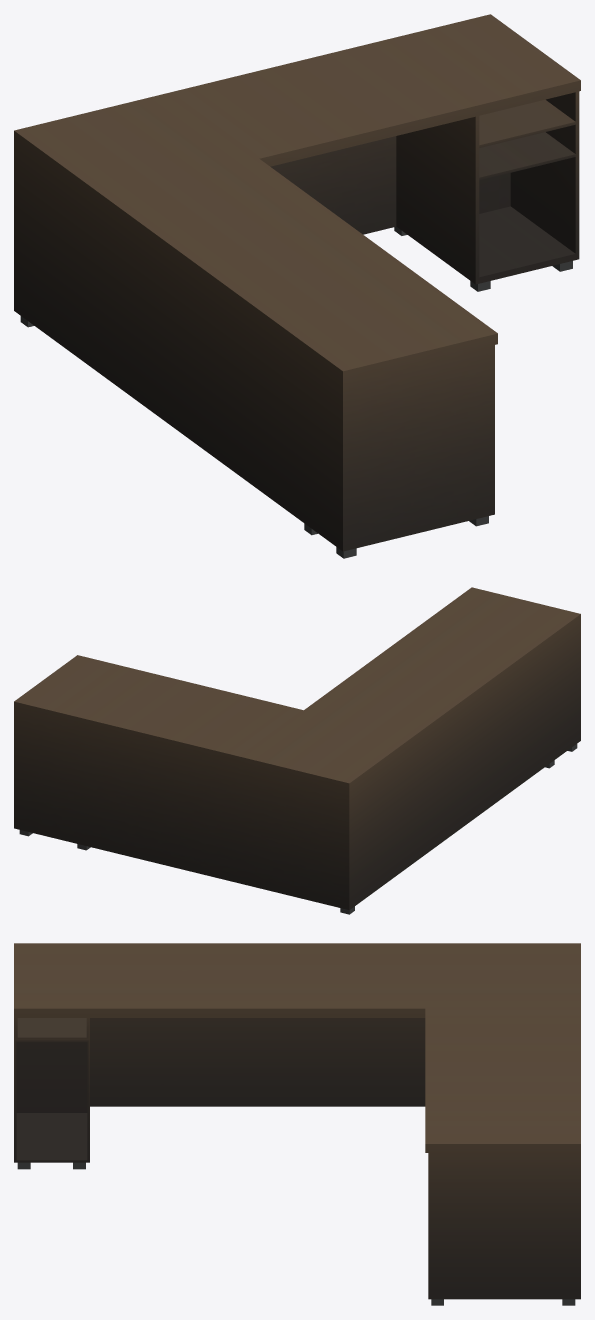
Rendered from Desk_Corner_Booth_C_Open_Brown.fbx.
The picture shows the model from 3 angles, top to bottom: view 1: azimuth 30°, elevation 25°; view 2: azimuth 150°, elevation 25°; view 3: azimuth 270°, elevation 25°; orthographic projection. The views are drawn at different scales.
Visible parts, largest first — view 1: Desk_Corner_Booth_C_Open_Brown; view 2: Desk_Corner_Booth_C_Open_Brown; view 3: Desk_Corner_Booth_C_Open_Brown.
Boxes of the visible parts, x1,y1,x2,y2 form: Desk_Corner_Booth_C_Open_Brown: (14,14,580,558); Desk_Corner_Booth_C_Open_Brown: (14,587,580,914); Desk_Corner_Booth_C_Open_Brown: (14,943,580,1305).
Size of the model in its own units: 184 by 70 by 220.
